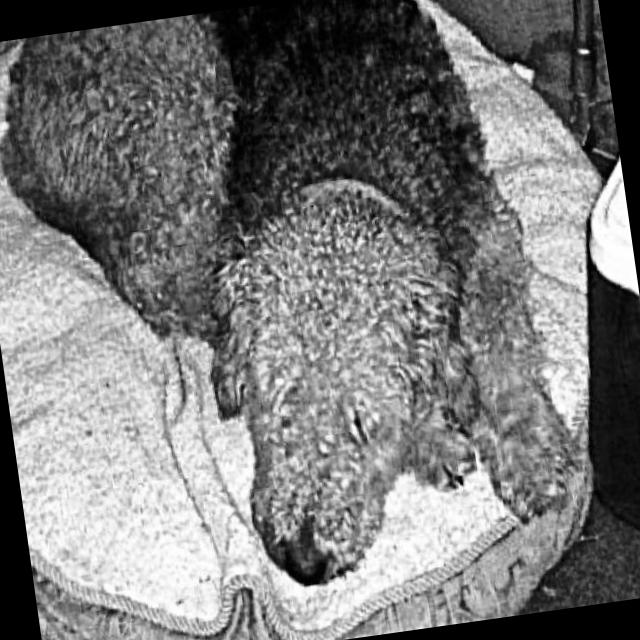Dog: (0, 0, 593, 625)
